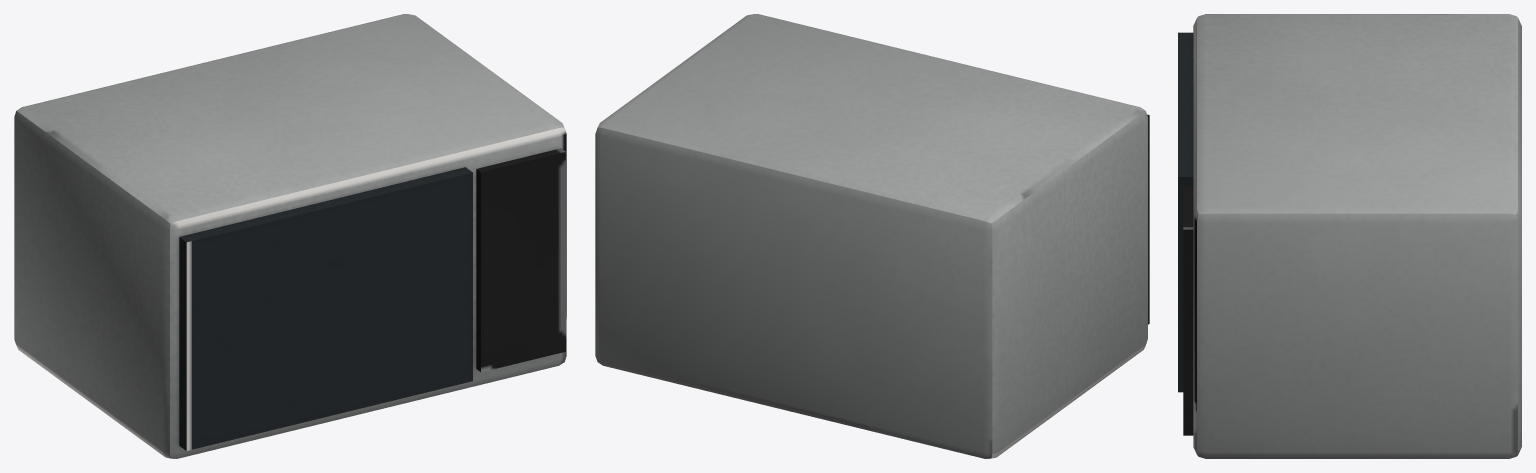
The model's file is H_Microwave.fbx.
The picture shows the model from 3 angles, left to right: view 1: azimuth 30°, elevation 25°; view 2: azimuth 150°, elevation 25°; view 3: azimuth 270°, elevation 25°; orthographic projection. The views are drawn at different scales.
Parts seen in each view (by area): view 1: H_Microwave; view 2: H_Microwave; view 3: H_Microwave.
Part boxes in pixels (<box>): H_Microwave: <box>14,14,566,458</box>; H_Microwave: <box>595,14,1149,458</box>; H_Microwave: <box>1178,14,1521,458</box>.
Bounding box in the file's own units: 190 × 110 × 136.
1 material, 1 textured.
